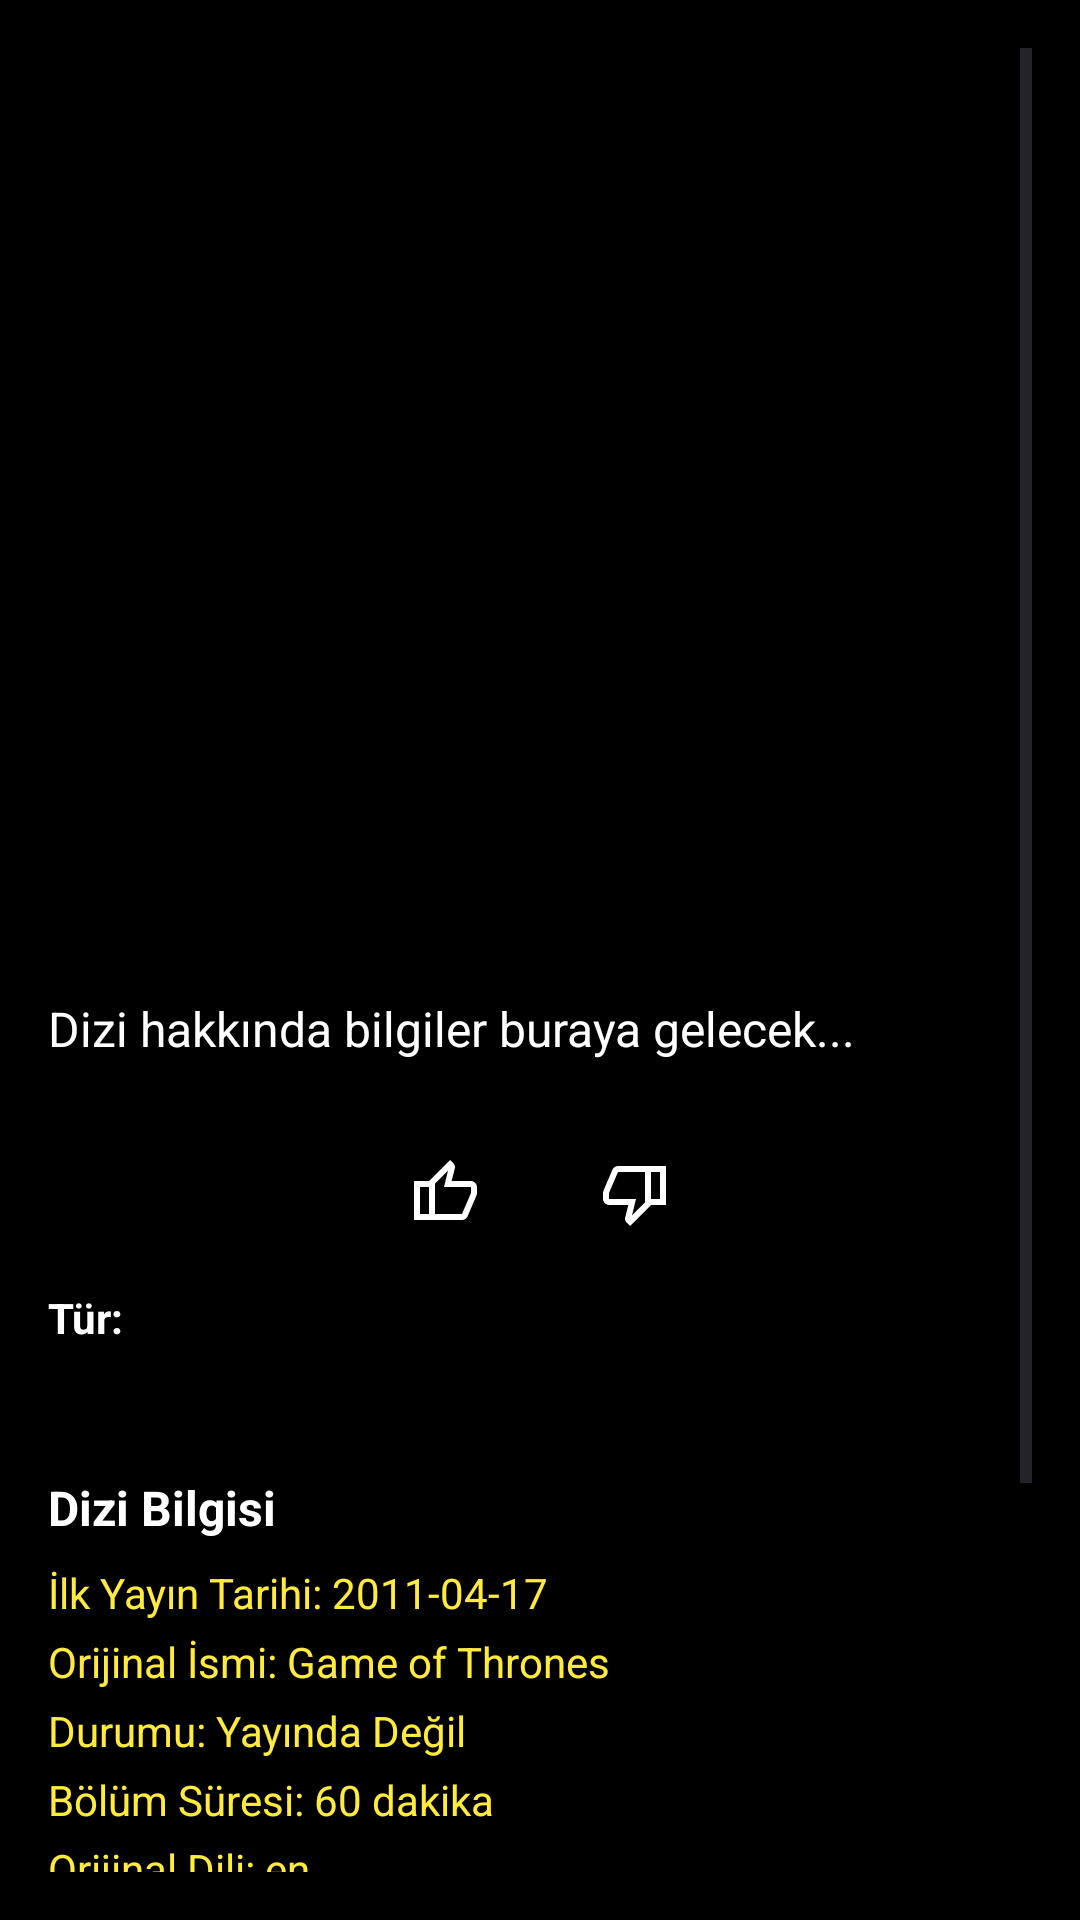

Screen size 1080 × 1920. Icon name, then its box in pixels as (x1, y1, x2, y2):
Dislike: (603, 1166, 666, 1226)
Like: (414, 1160, 477, 1220)
